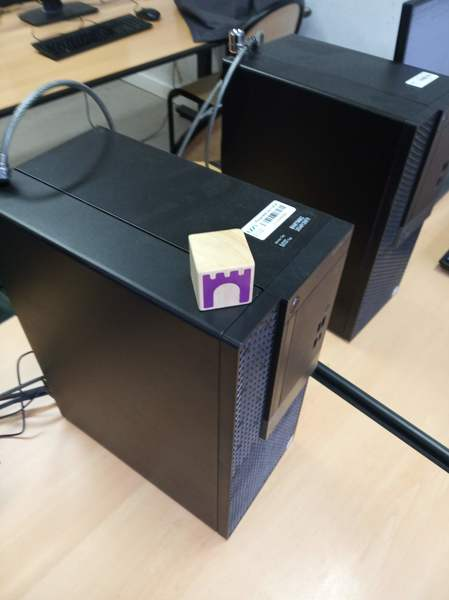violet: (190, 228, 258, 309)
